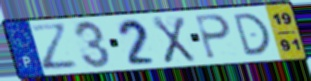2: (117, 15, 162, 69)
3: (72, 18, 112, 70)
D: (231, 11, 273, 58)
P: (194, 13, 234, 61)
X: (149, 16, 197, 65)
Z: (27, 22, 82, 73)
